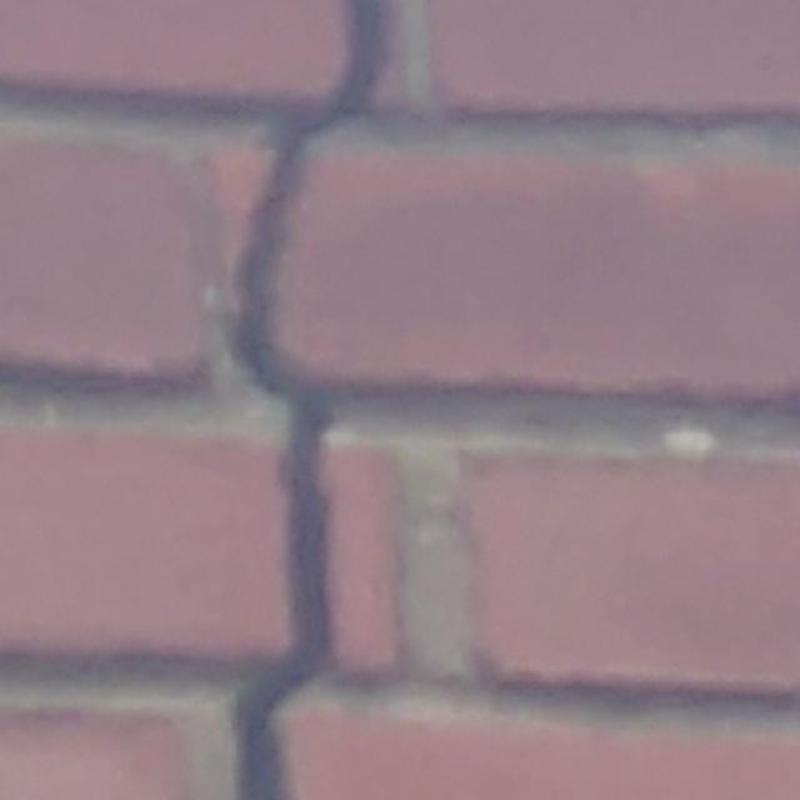crack: (236, 0, 381, 799)
